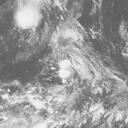cyclone: (55, 53, 86, 82)
